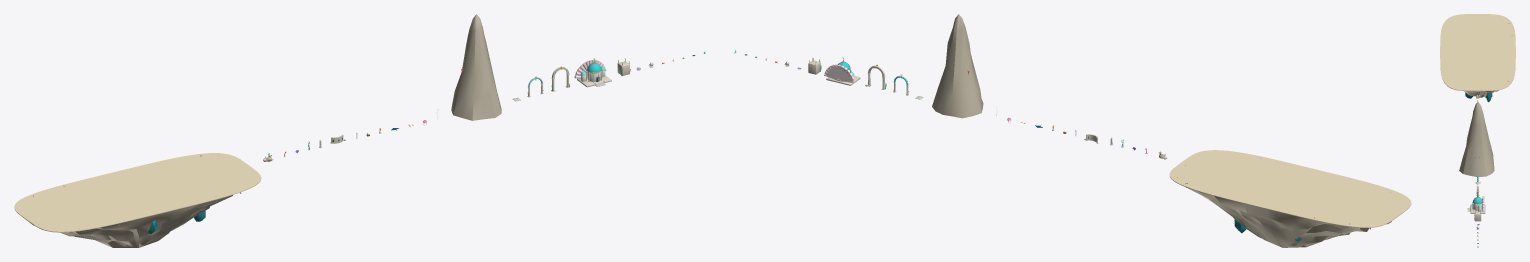
The model's file is Atlantis_Pack.fbx.
3 views of the same model, side by side, from view 1: azimuth 30°, elevation 25°; view 2: azimuth 150°, elevation 25°; view 3: azimuth 270°, elevation 25° (orthographic). The views are drawn at different scales.
Visible parts, largest first — view 1: AtlantisIsland__Sand__F1E3C0SA, ReefSpire__Rock__C9C0ABSP, AtlantisIsland__Reef__C9C0ABSP; view 2: AtlantisIsland__Sand__F1E3C0SA, AtlantisIsland__Reef__C9C0ABSP, ReefSpire__Rock__C9C0ABSP; view 3: AtlantisIsland__Sand__F1E3C0SA, ReefSpire__Rock__C9C0ABSP, AtlantisIsland__Reef__C9C0ABSP, AtlantisIsland__Hang__1E8C96SP, RuinPlatform__Block__E6DFCFSP, ShellPalace__Platform__E6DFCFSP, ShellPalace__Dome__3FD0D4SP.
Boxes of the visible parts, x1=… form: AtlantisIsland__Sand__F1E3C0SA: x1=14, y1=153, x2=261, y2=232; ReefSpire__Rock__C9C0ABSP: x1=451, y1=14, x2=501, y2=120; AtlantisIsland__Reef__C9C0ABSP: x1=28, y1=195, x2=232, y2=247; AtlantisIsland__Sand__F1E3C0SA: x1=1169, y1=150, x2=1411, y2=227; AtlantisIsland__Reef__C9C0ABSP: x1=1188, y1=188, x2=1391, y2=247; ReefSpire__Rock__C9C0ABSP: x1=932, y1=14, x2=983, y2=118; AtlantisIsland__Sand__F1E3C0SA: x1=1440, y1=14, x2=1515, y2=91; ReefSpire__Rock__C9C0ABSP: x1=1459, y1=102, x2=1494, y2=176; AtlantisIsland__Reef__C9C0ABSP: x1=1464, y1=90, x2=1498, y2=97; AtlantisIsland__Hang__1E8C96SP: x1=1465, y1=92, x2=1492, y2=102; RuinPlatform__Block__E6DFCFSP: x1=1474, y1=211, x2=1481, y2=221; ShellPalace__Platform__E6DFCFSP: x1=1470, y1=204, x2=1485, y2=213; ShellPalace__Dome__3FD0D4SP: x1=1473, y1=197, x2=1482, y2=203.
Bounding box in the file's own units: 922 × 201 × 126.
